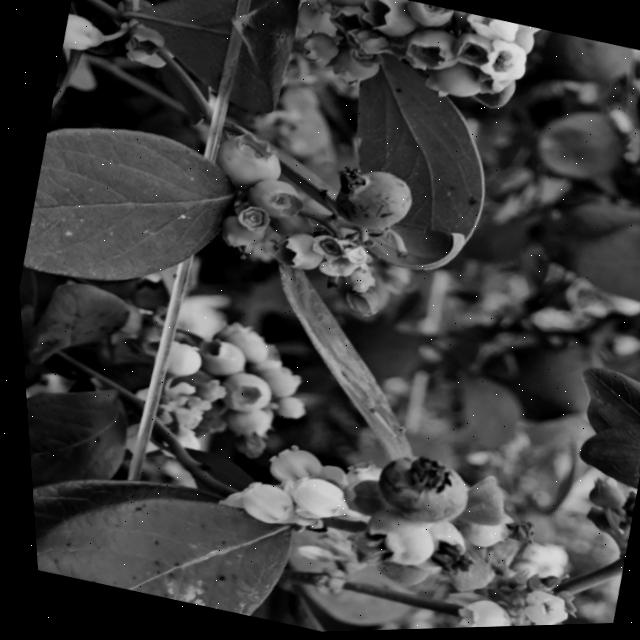RipeBlueBerry: (364, 449, 468, 532), (321, 161, 415, 241)
UnripeBlueBerry: (342, 509, 433, 576), (205, 128, 286, 196), (213, 368, 269, 419), (188, 335, 246, 382), (215, 407, 269, 450)
